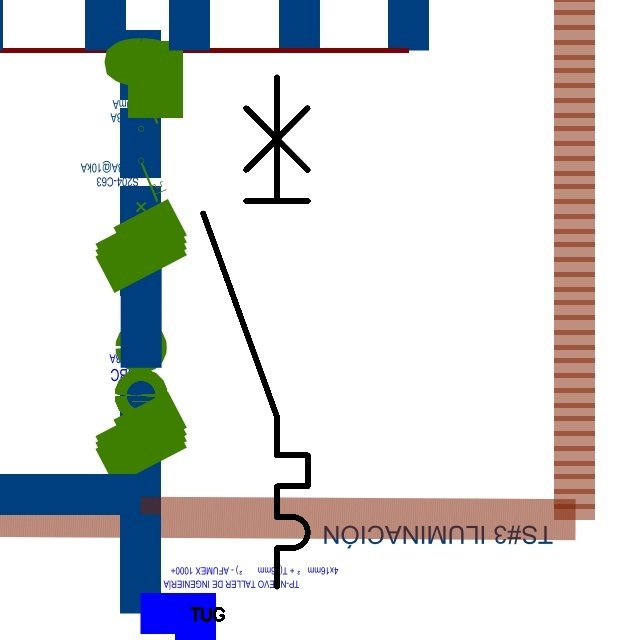interruptor_termomagnetico: (190, 64, 321, 600)
